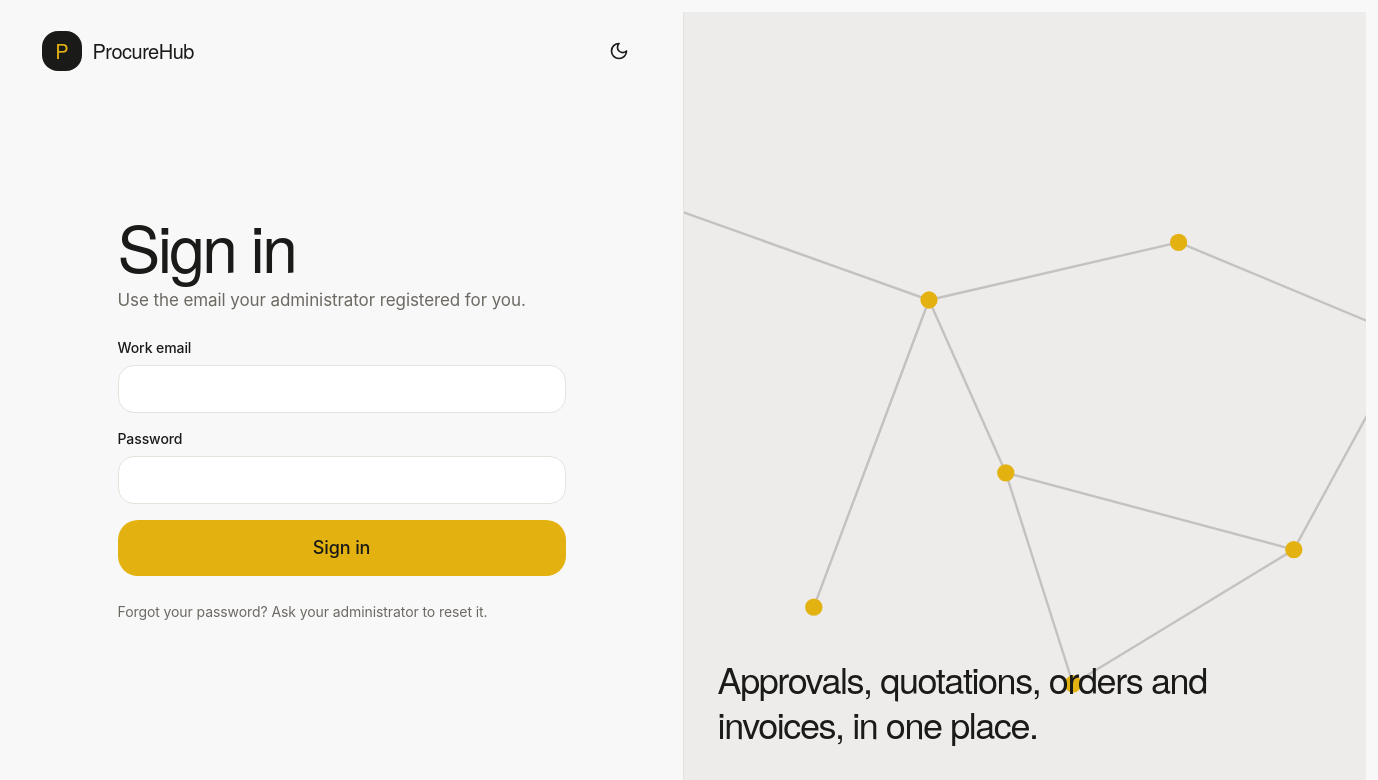
Scenario: login page › explains a lockout and a suspension
Type "person@example.com" into the field labelled "Work email" at (342, 389), box [118,365,566,413]
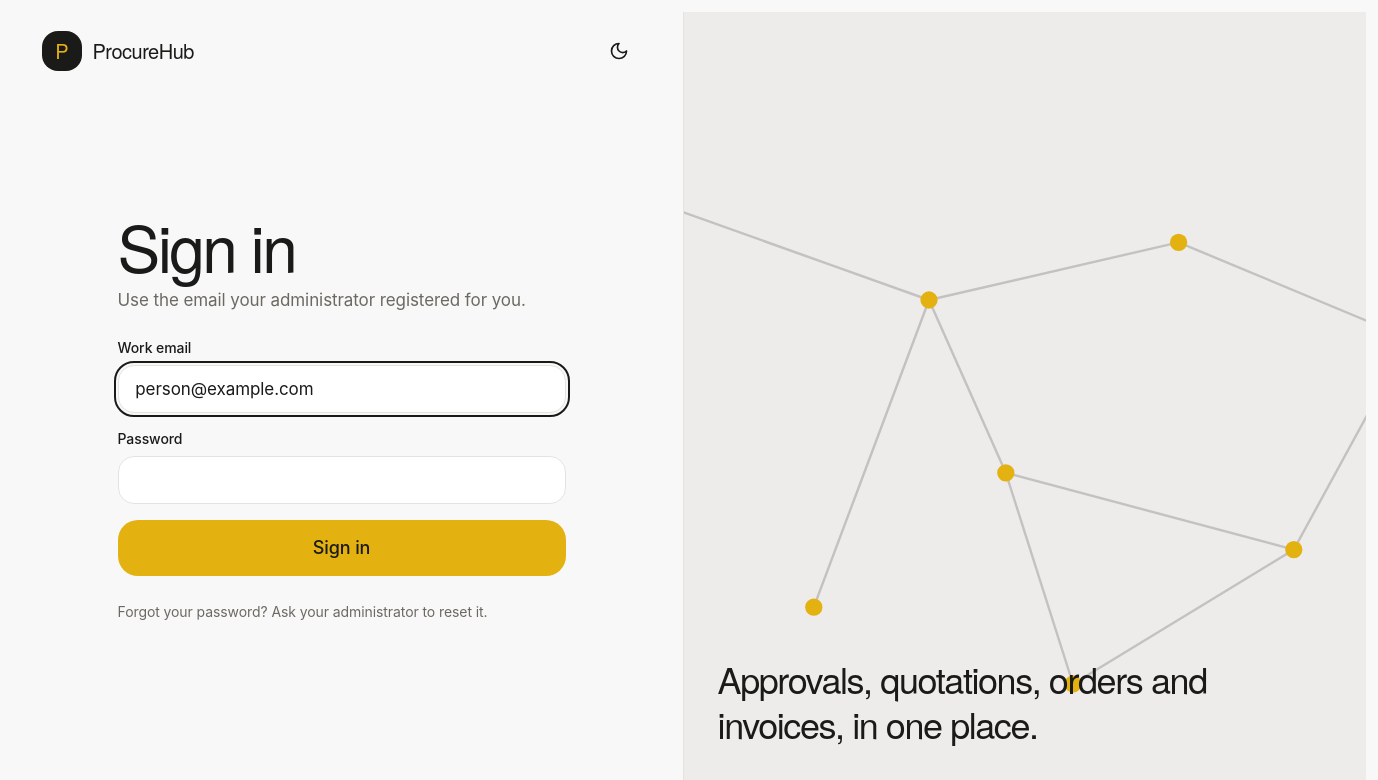
Type "a-long-password-1" into the password field labelled "Password" at (342, 480), box [118,456,566,504]
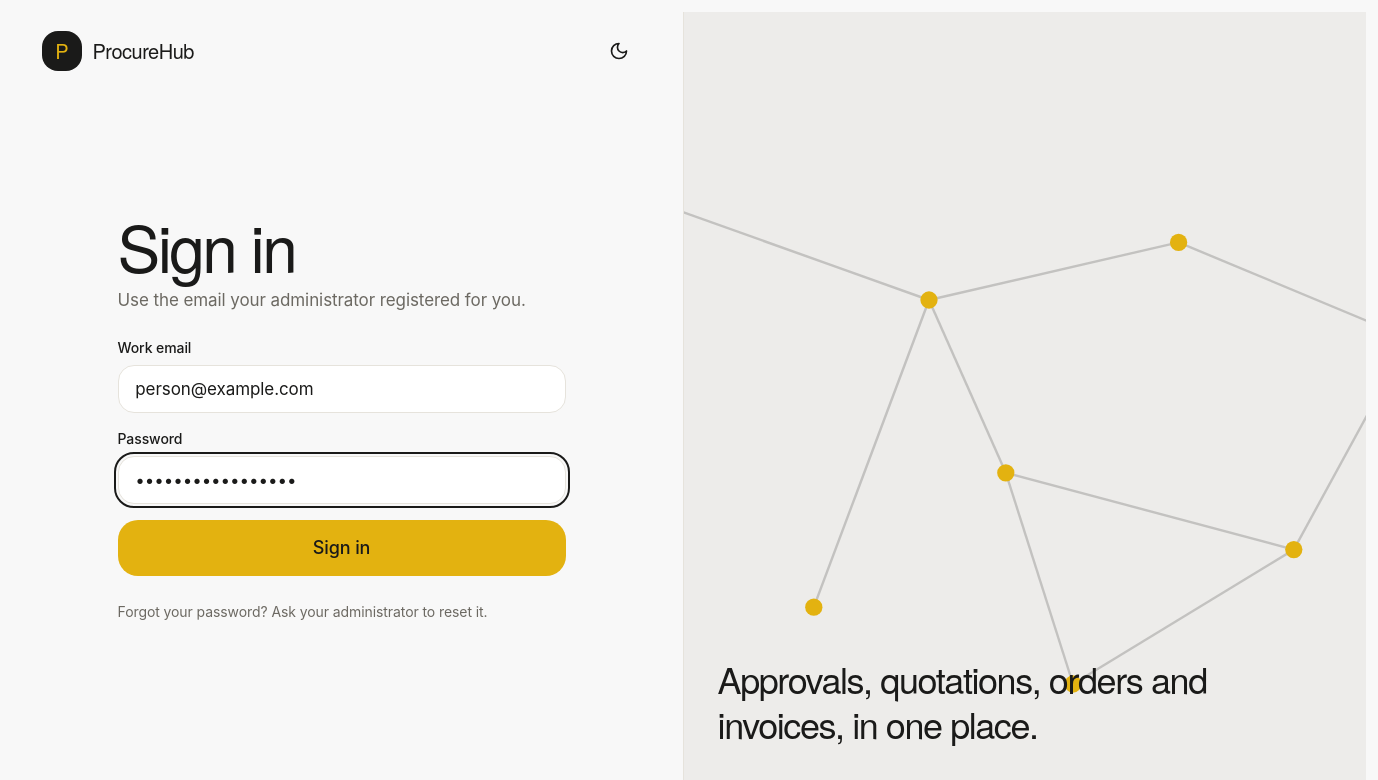
Click the button "Sign in" at (342, 548), box [118,520,566,576]
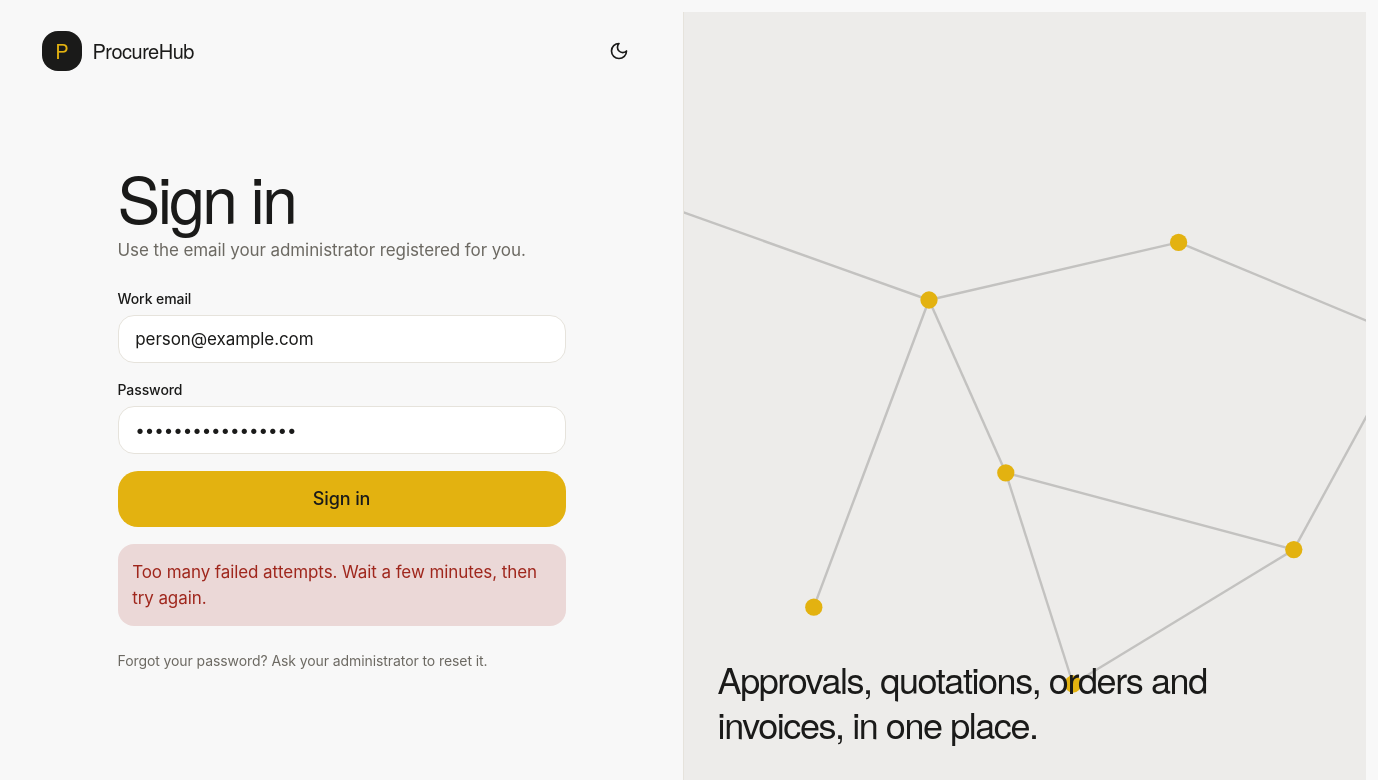
Result: the message shows "Too many failed attempts" at [132,562,537,608]
